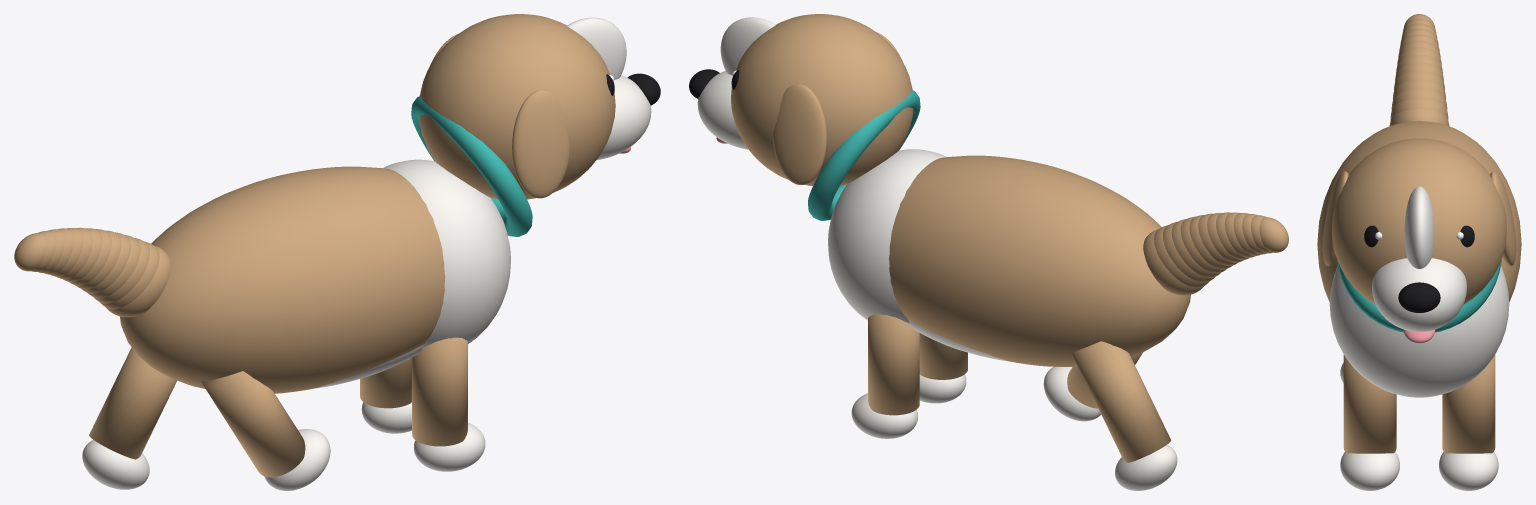
File: english_bulldog.glb
3 views of the same model, side by side, from view 1: azimuth 30°, elevation 25°; view 2: azimuth 150°, elevation 25°; view 3: azimuth 270°, elevation 25° (orthographic). The views are drawn at different scales.
Visible parts, largest first — view 1: Body, Head, Chest, Leg3, Leg1, Leg2, Ear-1, Collar, Muzzle, Paw2, Leg0, Paw1 (+9 smaller); view 2: Body, Head, Chest, Leg2, Leg0, Ear1, Collar, Muzzle, Paw2, Leg1, Paw0, Blaze (+8 smaller); view 3: Head, Chest, Body, Muzzle, Leg0, Leg1, Blaze, Paw0, Paw1, Collar, Nose, Ear1 (+15 smaller).
Part boxes in pixels (box(x1,y1,x2,y2)): Body: box(120, 166, 445, 393); Head: box(419, 14, 615, 199); Chest: box(383, 159, 510, 347); Leg3: box(201, 371, 305, 477); Leg1: box(412, 337, 467, 446); Leg2: box(89, 347, 176, 459); Ear-1: box(512, 89, 570, 198); Collar: box(411, 96, 532, 236); Muzzle: box(596, 75, 651, 160); Paw2: box(82, 440, 149, 489); Leg0: box(360, 357, 411, 408); Paw1: box(414, 422, 485, 471); Body: box(889, 155, 1190, 366); Head: box(731, 14, 913, 186); Chest: box(828, 149, 946, 323); Leg2: box(1072, 341, 1171, 462); Leg0: box(868, 314, 919, 415); Ear1: box(772, 84, 826, 184); Collar: box(808, 90, 920, 220); Muzzle: box(697, 71, 748, 149); Paw2: box(1115, 444, 1177, 490); Leg1: box(919, 333, 967, 379); Paw0: box(851, 393, 917, 438); Blaze: box(720, 17, 775, 74); Head: box(1332, 138, 1506, 304); Chest: box(1329, 266, 1509, 397); Body: box(1317, 121, 1521, 301); Muzzle: box(1372, 258, 1466, 331); Leg0: box(1442, 354, 1495, 453); Leg1: box(1343, 354, 1396, 453); Blaze: box(1404, 186, 1434, 268); Paw0: box(1439, 452, 1498, 490); Paw1: box(1340, 452, 1399, 490); Collar: box(1337, 260, 1501, 332); Nose: box(1398, 282, 1440, 312); Ear1: box(1490, 171, 1516, 266).
Bounding box in the file's own units: 1.99 × 1.2 × 0.58.
